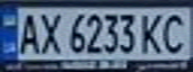2: (81, 10, 106, 55)
3: (118, 10, 139, 54), (103, 10, 124, 54)
6: (63, 9, 87, 54)
A: (12, 10, 42, 55)
C: (157, 10, 193, 55)
K: (136, 10, 169, 55)
X: (36, 9, 63, 55)
